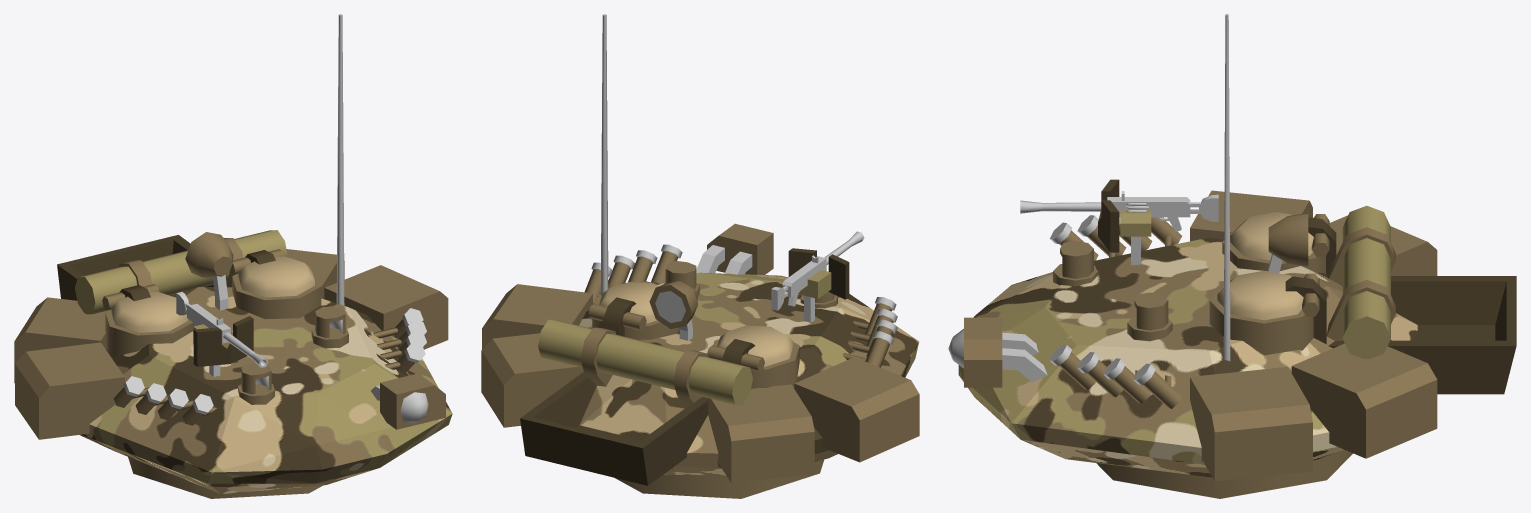
The model's file is tank_tower_001.fbx.
3 views of the same model, side by side, from view 1: azimuth 30°, elevation 25°; view 2: azimuth 150°, elevation 25°; view 3: azimuth 270°, elevation 25° (orthographic). The views are drawn at different scales.
Visible parts, largest first — view 1: tank_tower_001; view 2: tank_tower_001; view 3: tank_tower_001.
Boxes of the visible parts, box(x1,y1,x2,y2) form: tank_tower_001: box(14, 14, 452, 498); tank_tower_001: box(481, 14, 919, 498); tank_tower_001: box(948, 14, 1516, 498).
Size of the model in its own units: 441 by 450 by 417.
